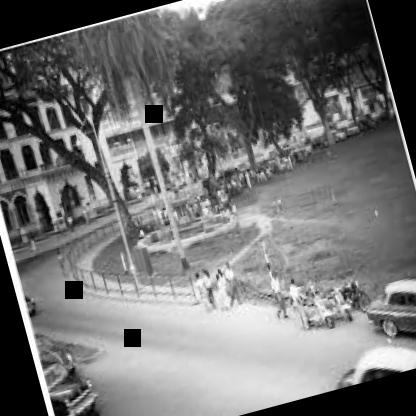car: (32, 318, 105, 416), (354, 260, 416, 363), (323, 329, 416, 390)
